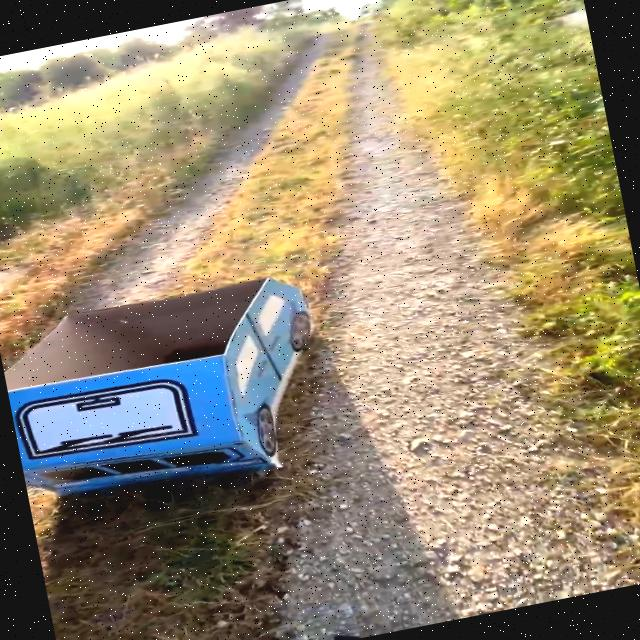blue_car: (0, 236, 401, 545)
